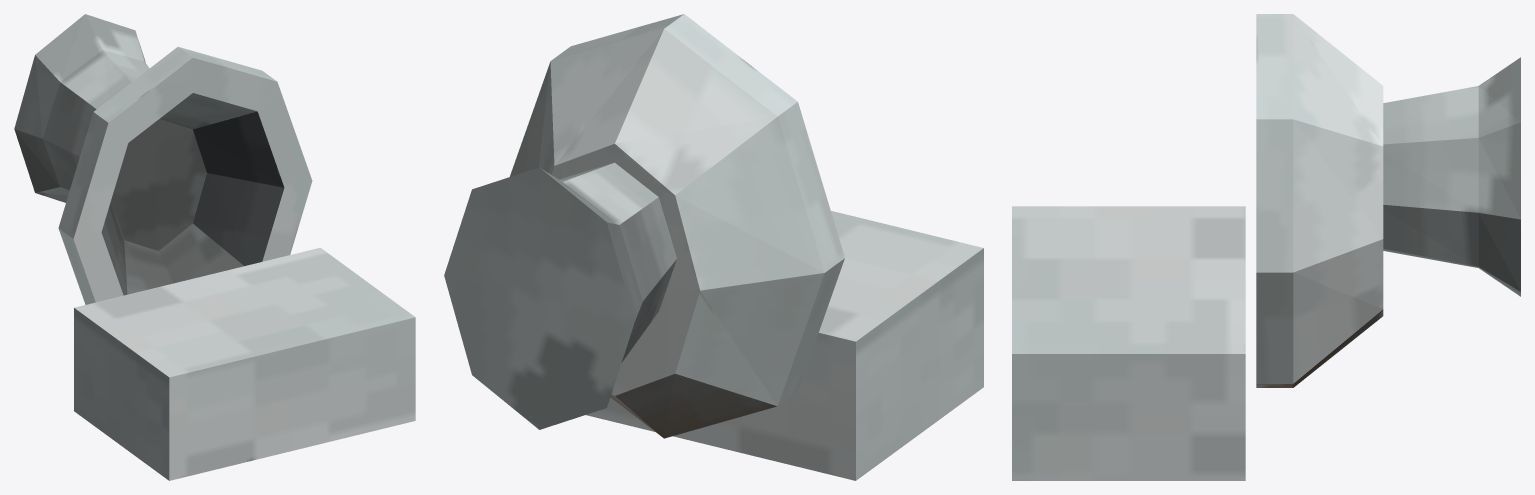
Rendered from pz_house_toilet_tank.obj.
The picture shows the model from 3 angles, left to right: view 1: azimuth 30°, elevation 25°; view 2: azimuth 150°, elevation 25°; view 3: azimuth 270°, elevation 25°; orthographic projection. The views are drawn at different scales.
Parts seen in each view (by area): view 1: pz_house_toilet_tank_|_3_parte_3, pz_house_toilet_tank_|_2_parte_2, pz_house_toilet_tank_|_1_parte_1; view 2: pz_house_toilet_tank_|_2_parte_2, pz_house_toilet_tank_|_1_parte_1, pz_house_toilet_tank_|_3_parte_3; view 3: pz_house_toilet_tank_|_3_parte_3, pz_house_toilet_tank_|_2_parte_2, pz_house_toilet_tank_|_1_parte_1.
Boxes of the visible parts, x1,y1,x2,y2 form: pz_house_toilet_tank_|_3_parte_3: (74,247,415,480); pz_house_toilet_tank_|_2_parte_2: (58,47,312,304); pz_house_toilet_tank_|_1_parte_1: (14,14,149,202); pz_house_toilet_tank_|_2_parte_2: (510,14,844,438); pz_house_toilet_tank_|_1_parte_1: (444,162,676,429); pz_house_toilet_tank_|_3_parte_3: (586,211,983,480); pz_house_toilet_tank_|_3_parte_3: (1012,206,1245,480); pz_house_toilet_tank_|_2_parte_2: (1256,14,1383,387); pz_house_toilet_tank_|_1_parte_1: (1383,57,1520,296).
Size of the model in its own units: 0.66 by 0.82 by 0.9617.
Materials: 1 (1 with a texture image).
